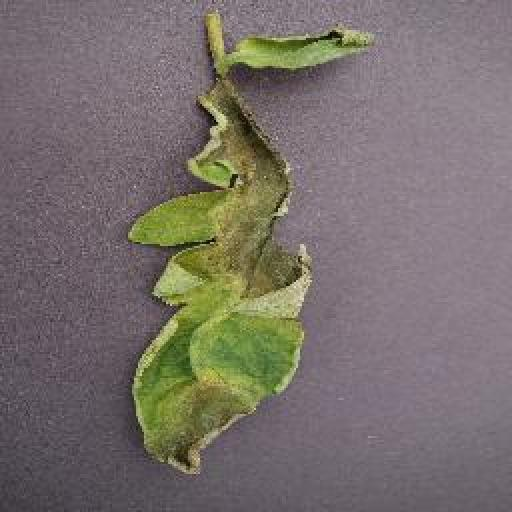disease_tomato: (127, 73, 313, 479), (234, 18, 376, 76)
